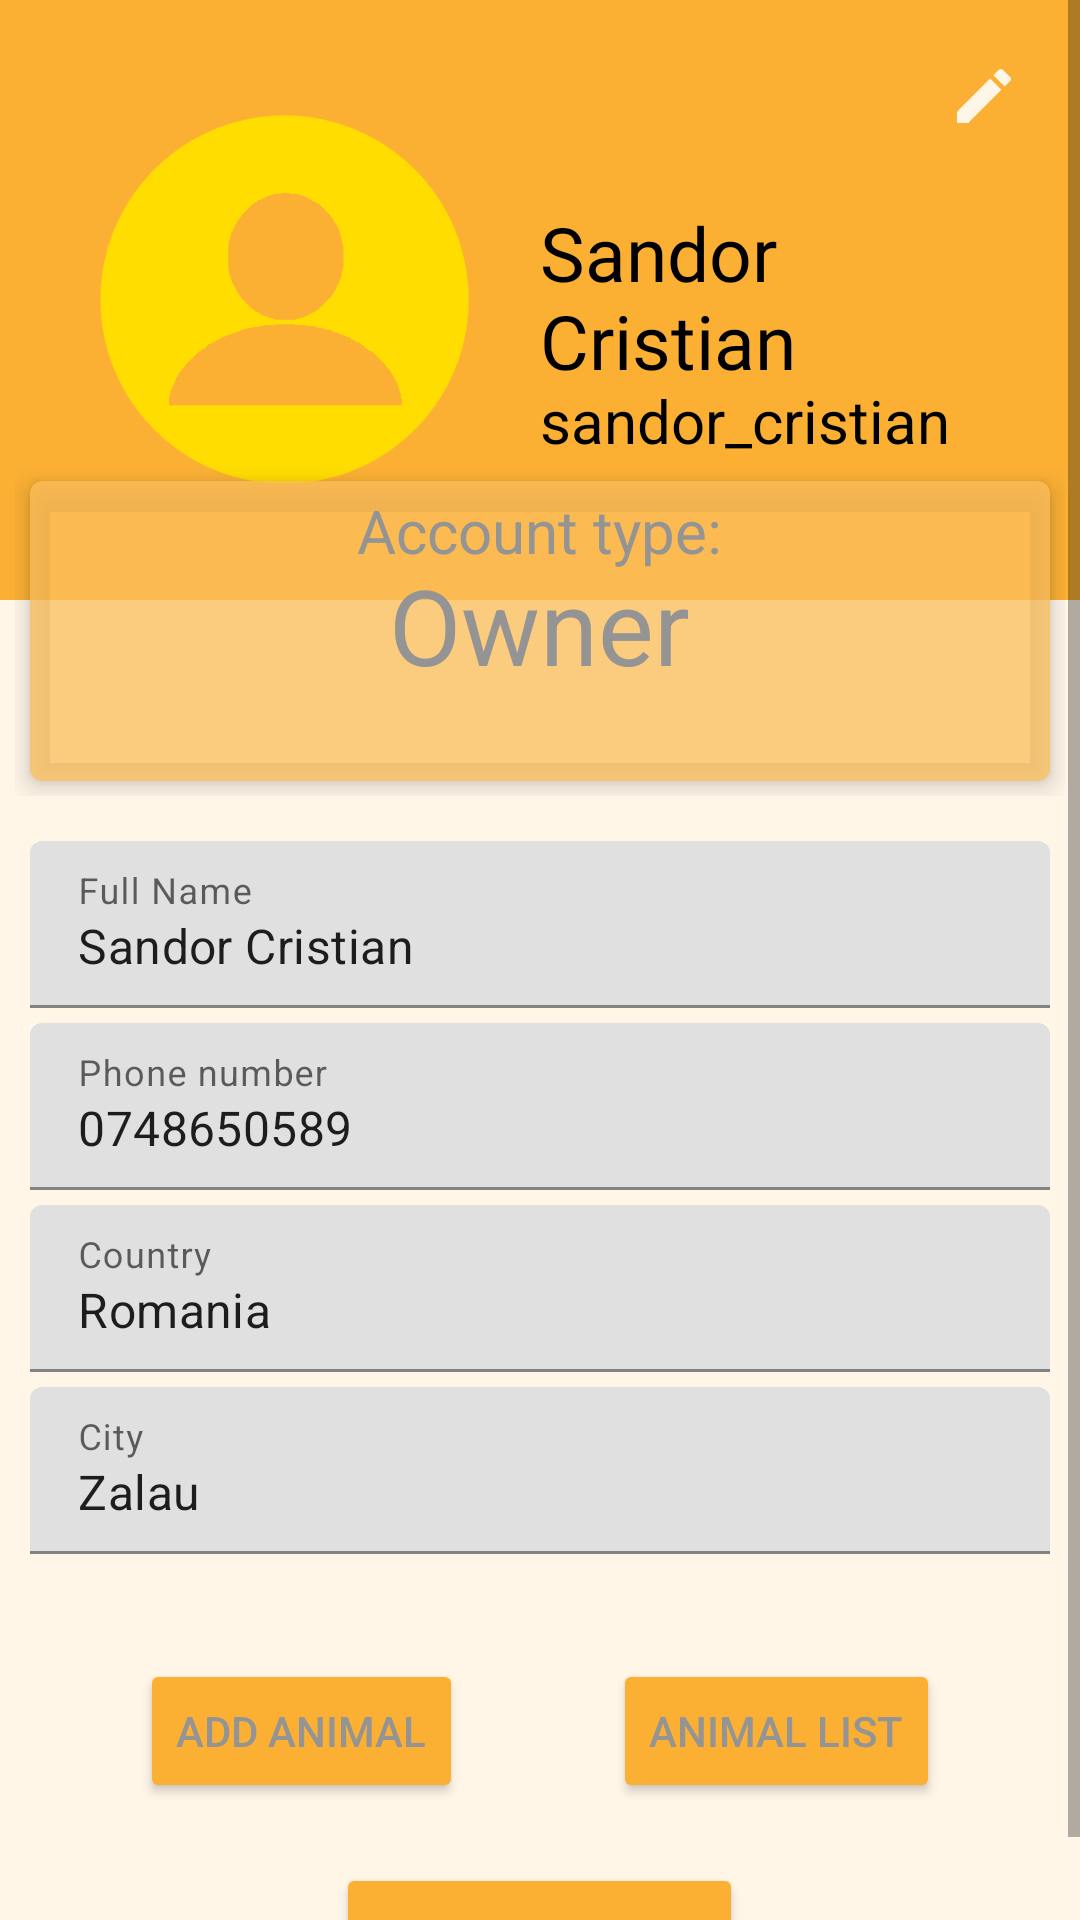

Icons on this 1080 × 1920 Android screen, each with its box as box=[x1, y1, x2, y2]:
edit crem: box=[957, 69, 1011, 123]
